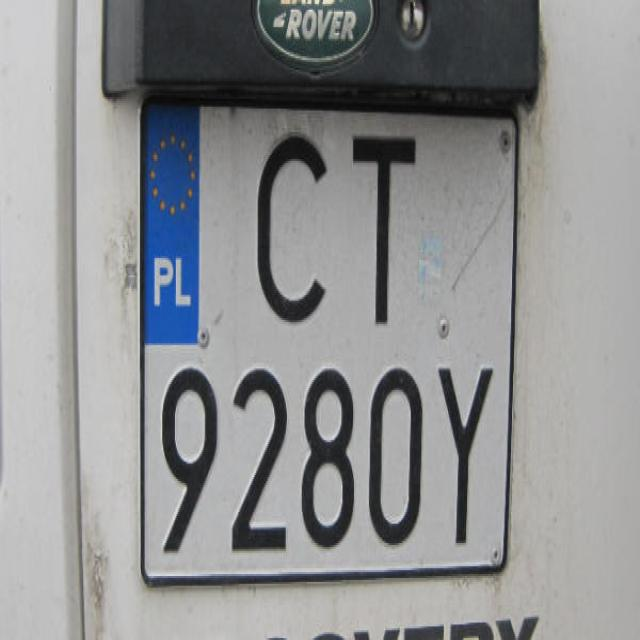pl_license_plate: (145, 107, 506, 562)
